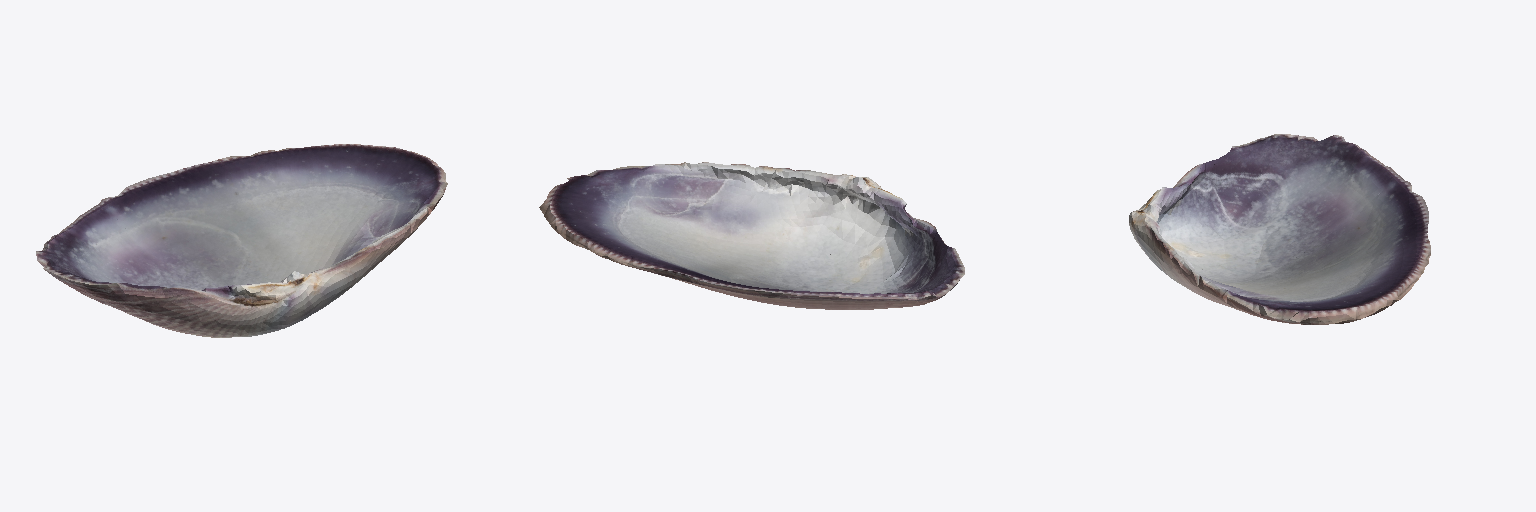
3 views of the same model, side by side, from view 1: azimuth 30°, elevation 25°; view 2: azimuth 150°, elevation 25°; view 3: azimuth 270°, elevation 25° (orthographic).
Visible parts, largest first — view 1: Obj3d66_[number redacted]_6_789; view 2: Obj3d66_[number redacted]_6_789; view 3: Obj3d66_[number redacted]_6_789.
Part boxes in pixels (left/top/right/bottom): Obj3d66_[number redacted]_6_789: left=36, top=144, right=447, bottom=337; Obj3d66_[number redacted]_6_789: left=539, top=162, right=964, bottom=309; Obj3d66_[number redacted]_6_789: left=1129, top=134, right=1430, bottom=324.
Size of the model in its own units: 69.23 by 12.99 by 46.29.
1 materials, 1 textured.